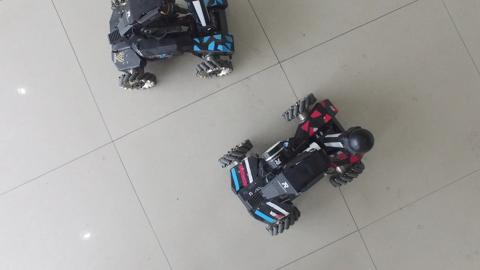chariot: (211, 84, 380, 242), (97, 1, 245, 100)
